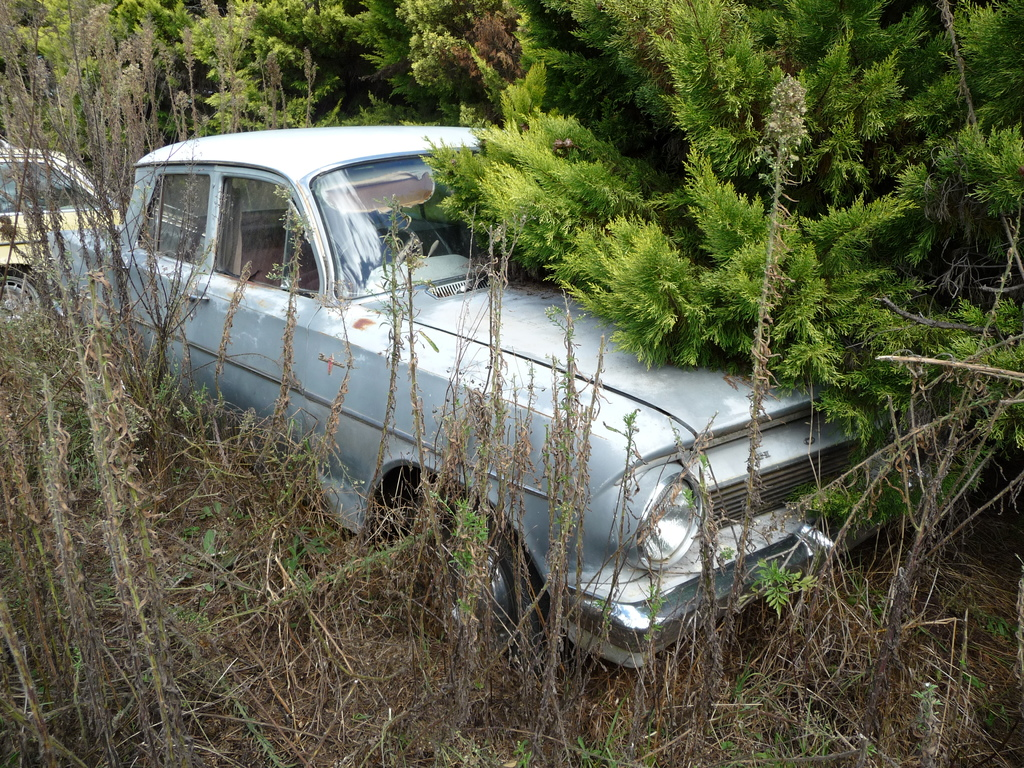Car: (42, 130, 889, 660), (0, 143, 192, 332)
